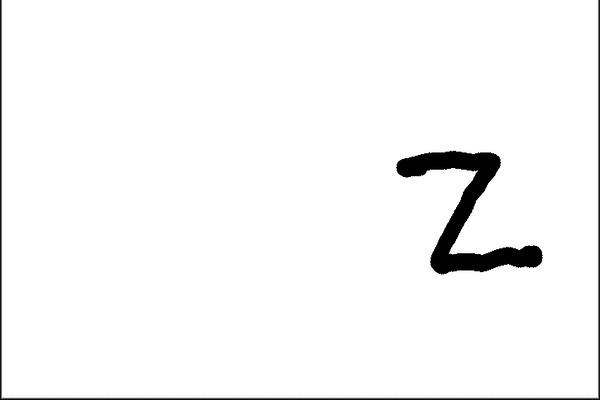Z: (388, 138, 552, 281)
